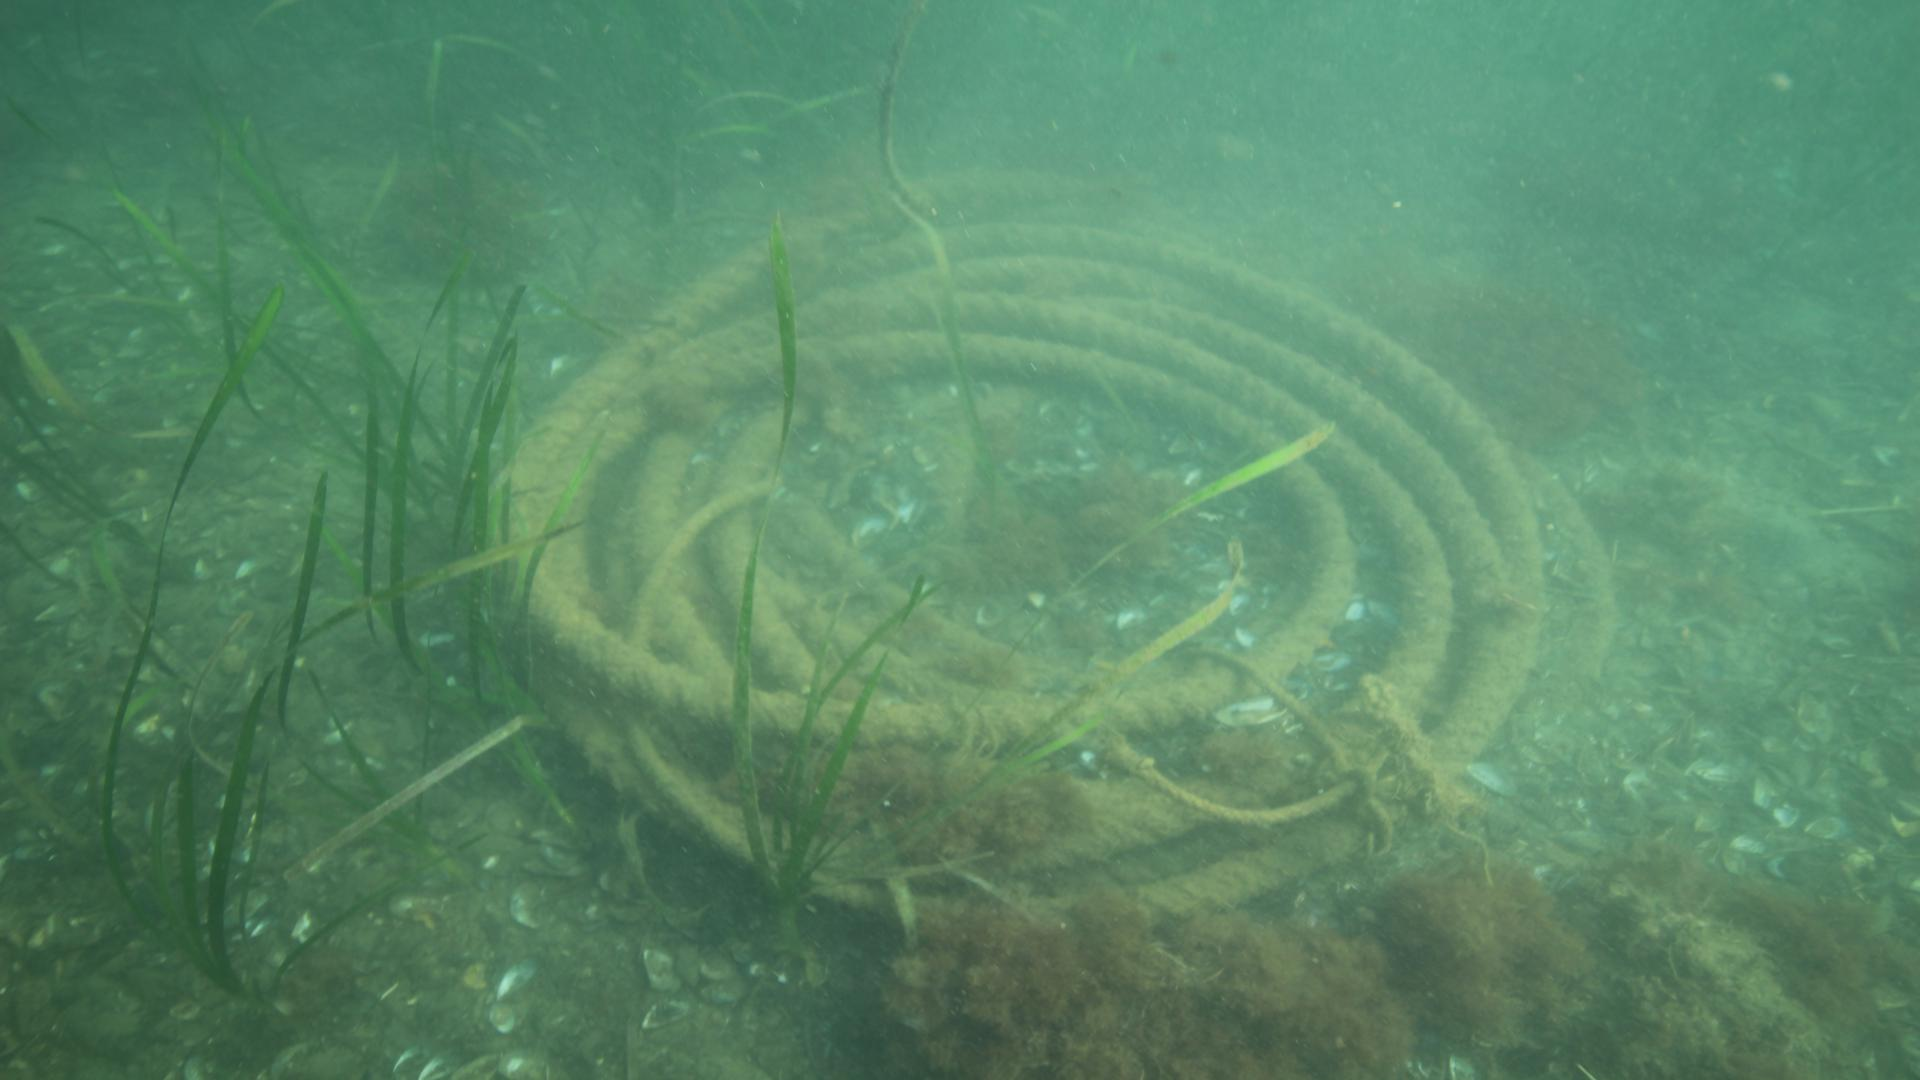bundle of ropes: (483, 167, 1617, 932)
